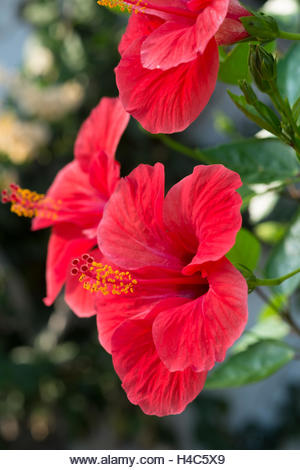Hibiscus: (71, 159, 258, 416), (1, 89, 123, 309), (93, 1, 256, 135), (244, 28, 295, 147)
